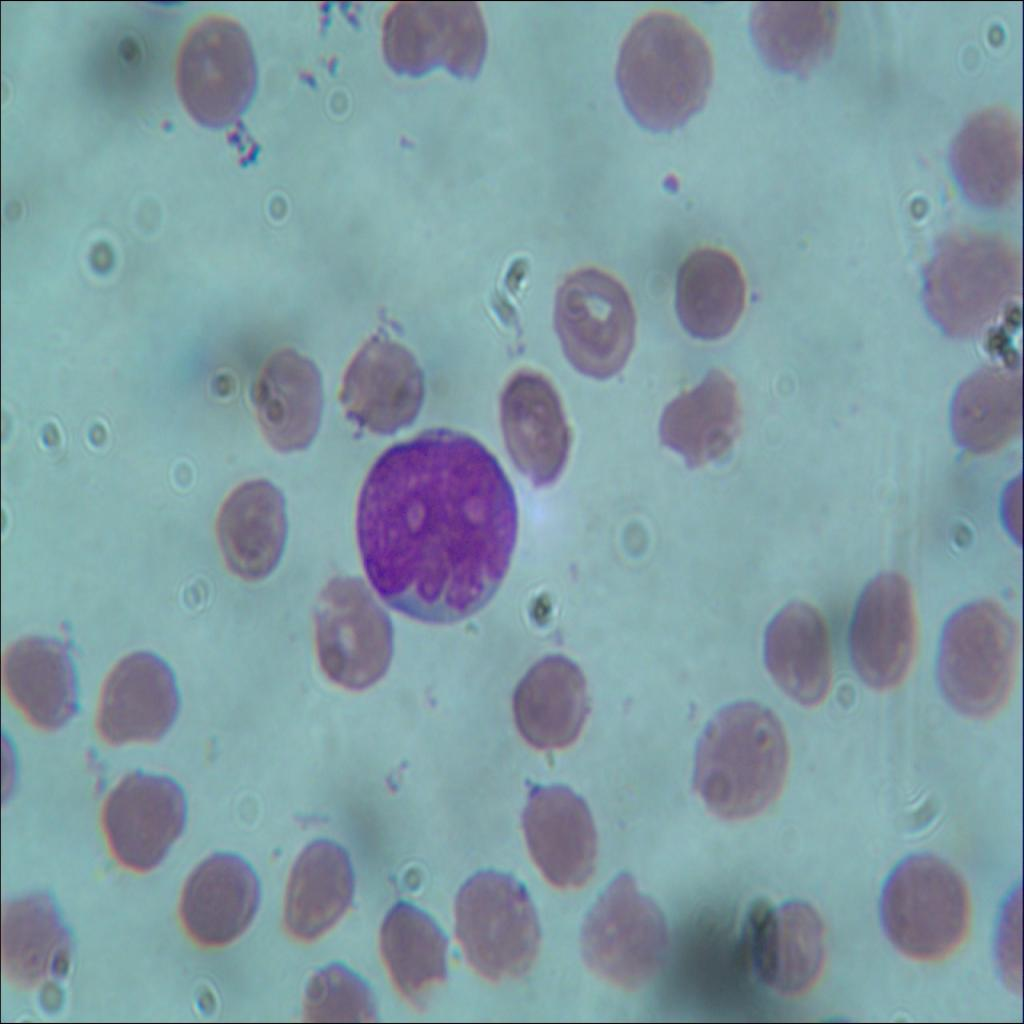Eritrosit: (900, 224, 1022, 351), (686, 702, 802, 832), (80, 641, 202, 757), (754, 594, 851, 734), (604, 8, 711, 132), (548, 260, 642, 397), (90, 757, 194, 878), (166, 835, 266, 957), (328, 324, 422, 452), (298, 572, 398, 692), (454, 858, 546, 984), (836, 565, 919, 702), (173, 17, 269, 132), (581, 874, 673, 991), (515, 779, 603, 901), (866, 859, 970, 962), (493, 358, 575, 484), (202, 472, 296, 580), (931, 598, 1023, 708), (504, 648, 596, 758), (241, 335, 326, 454), (653, 372, 749, 474), (266, 832, 351, 945), (0, 624, 79, 741), (363, 892, 444, 997), (751, 902, 835, 996), (673, 241, 746, 349), (369, 0, 455, 91), (289, 944, 381, 1023), (944, 361, 1014, 462), (942, 112, 1018, 198)
Limfoblast: (351, 424, 518, 634)
Platelet: (650, 161, 689, 218), (156, 102, 182, 136)
